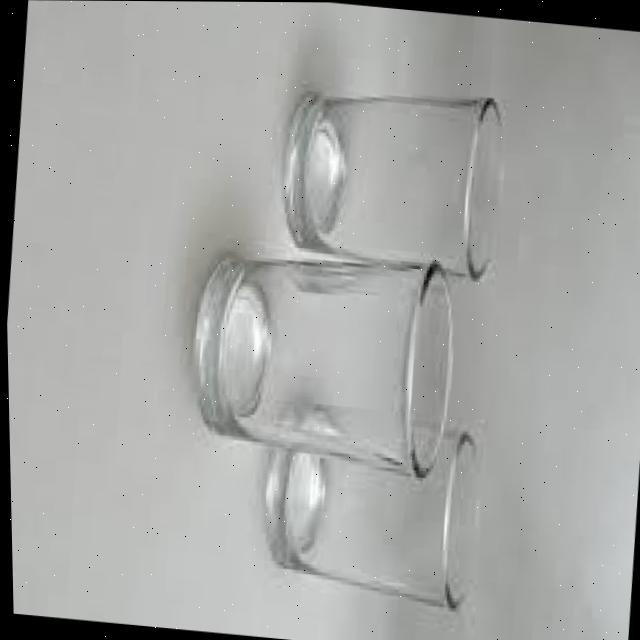Dry: (177, 234, 464, 485)
